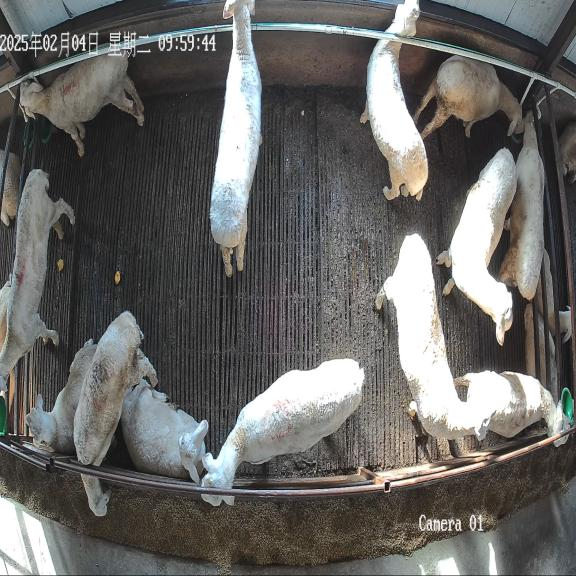drinking: (413, 56, 522, 139), (497, 111, 544, 300)
eating: (74, 311, 157, 516)
lying: (121, 376, 208, 482), (26, 339, 96, 453)
stand: (201, 358, 364, 506), (375, 233, 492, 439), (437, 148, 517, 345), (0, 169, 74, 376), (210, 0, 262, 277), (20, 43, 144, 156), (360, 0, 428, 200), (454, 370, 570, 447)
